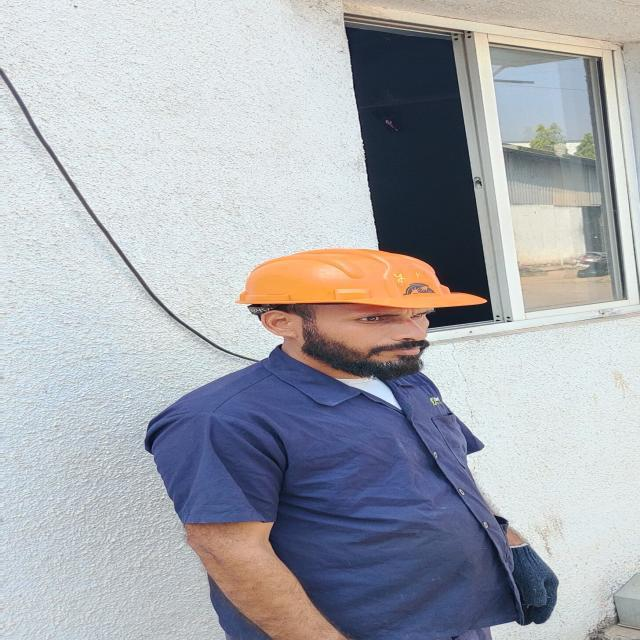Gloves: (500, 542, 560, 626)
